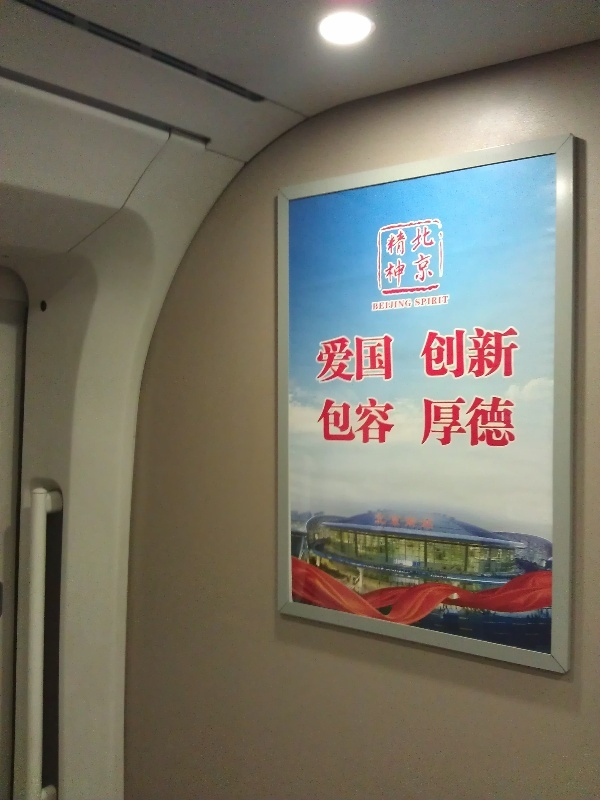text: (433, 323, 448, 384), (449, 323, 464, 384), (465, 323, 480, 384), (481, 323, 496, 384), (497, 323, 512, 384), (417, 226, 432, 283), (385, 230, 400, 287), (321, 333, 336, 386), (337, 333, 352, 386), (353, 333, 368, 386), (369, 333, 384, 386), (433, 396, 448, 447), (449, 396, 464, 447), (465, 396, 480, 447), (481, 396, 496, 447), (497, 396, 512, 447), (420, 323, 432, 384), (321, 397, 336, 445), (337, 397, 352, 445), (353, 397, 368, 445), (369, 397, 384, 445), (513, 323, 524, 384), (385, 333, 396, 386), (421, 396, 432, 447), (385, 397, 396, 445), (313, 333, 320, 386), (410, 226, 416, 283), (401, 230, 407, 287), (385, 512, 400, 532), (401, 512, 416, 532), (417, 512, 432, 532), (385, 299, 400, 312), (417, 295, 432, 307), (433, 295, 448, 307), (433, 226, 436, 283), (371, 299, 384, 312), (376, 512, 384, 532), (513, 396, 516, 447), (317, 397, 320, 445), (401, 299, 412, 312), (433, 512, 436, 532), (449, 295, 451, 307), (415, 295, 416, 307)
